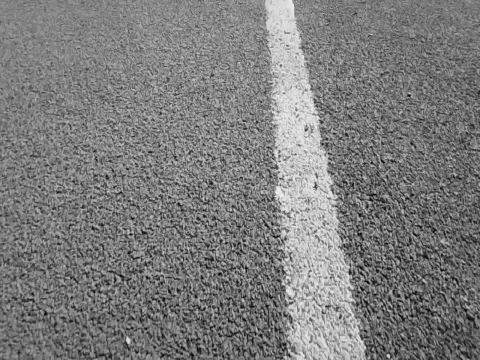Lines: (265, 0, 369, 360)
